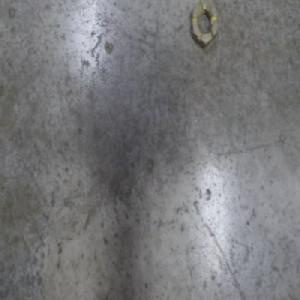Nut: (191, 0, 220, 50)
